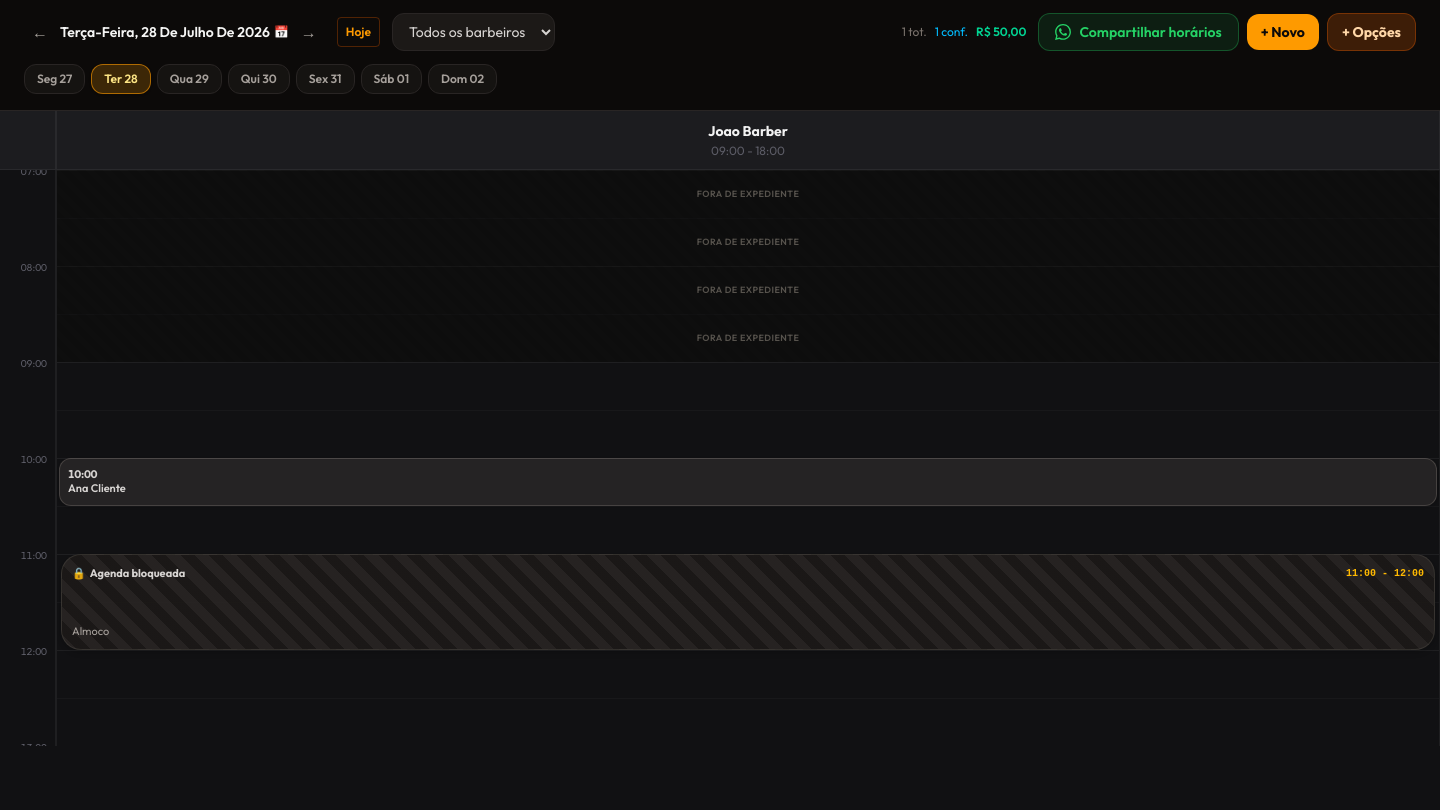
Scenario: Agenda operations UI › exclusao visual do bloqueio remove item
What coordinates should you click on to do the following:
click the text "Almoco"
I would click on:
 (91, 630)
Its box is [72,624,109,638].
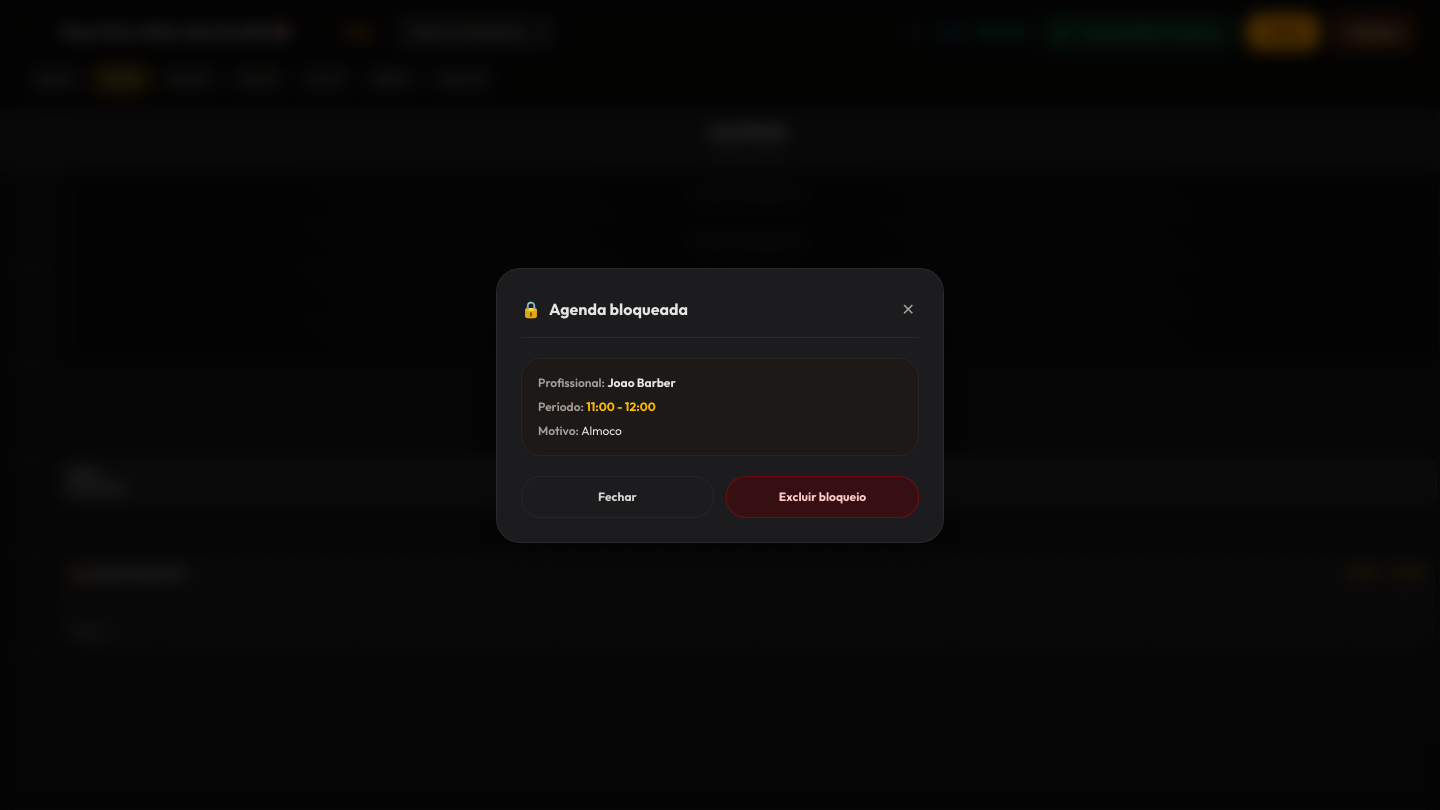
What coordinates should you click on to do the following:
click the button "Excluir bloqueio"
I would click on:
 (822, 496)
Its box is [726,476,919,518].
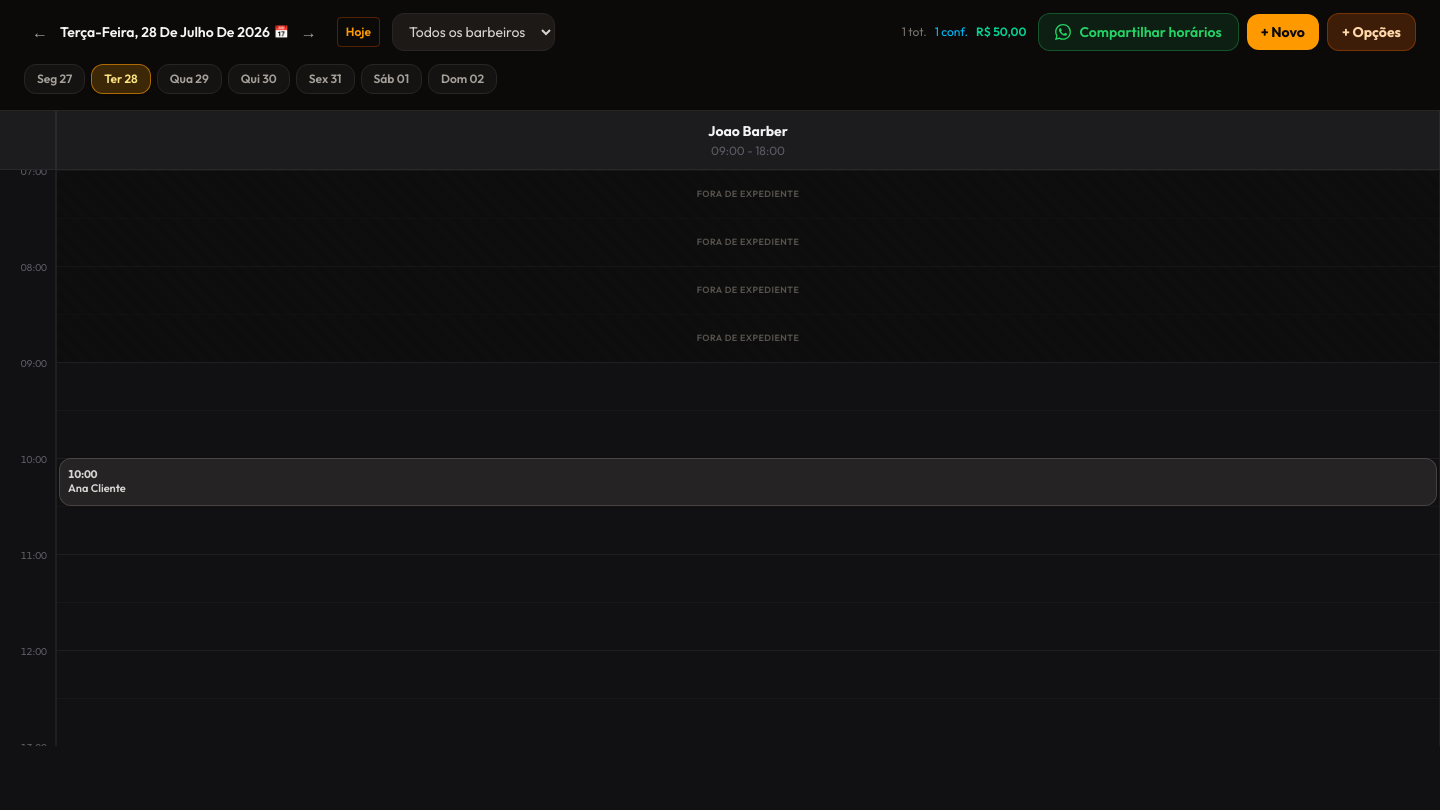
Check: the text "Almoco" is gone
